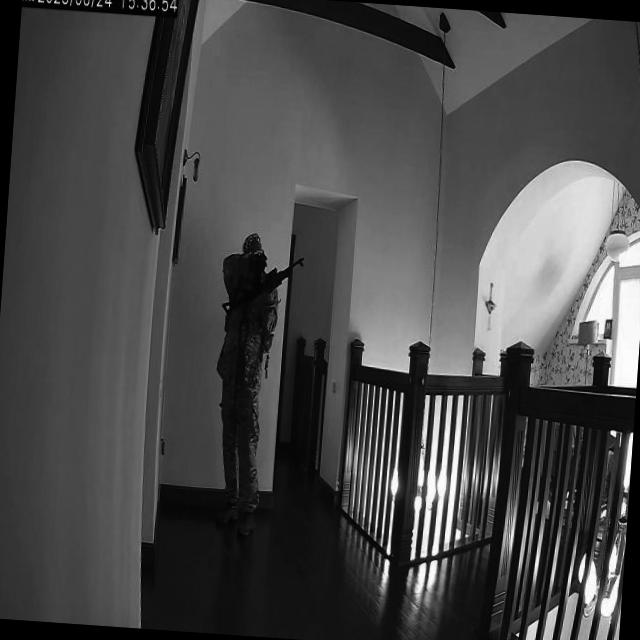gun: (222, 250, 307, 320)
person with a gun: (203, 228, 308, 542)
